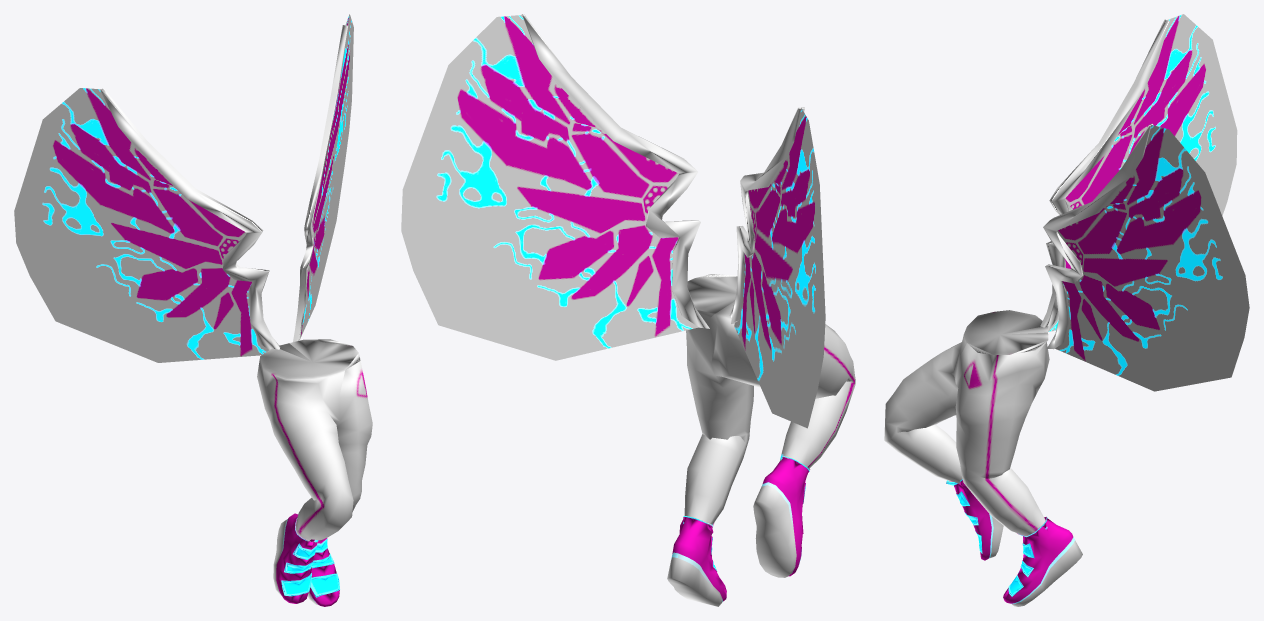
File: Alas_Mam_B.glb
The picture shows the model from 3 angles, left to right: view 1: azimuth 30°, elevation 25°; view 2: azimuth 150°, elevation 25°; view 3: azimuth 270°, elevation 25°; orthographic projection. The views are drawn at different scales.
Visible parts, largest first — view 1: Lengg_alas; view 2: Lengg_alas; view 3: Lengg_alas.
Boxes of the visible parts, <box> form: Lengg_alas: <box>14,14,372,606</box>; Lengg_alas: <box>401,14,855,606</box>; Lengg_alas: <box>884,14,1249,606</box>.
Size of what is drawn, in the model's own units: 1.34 by 1.92 by 1.21.
Materials: 1 (1 with a texture image).
